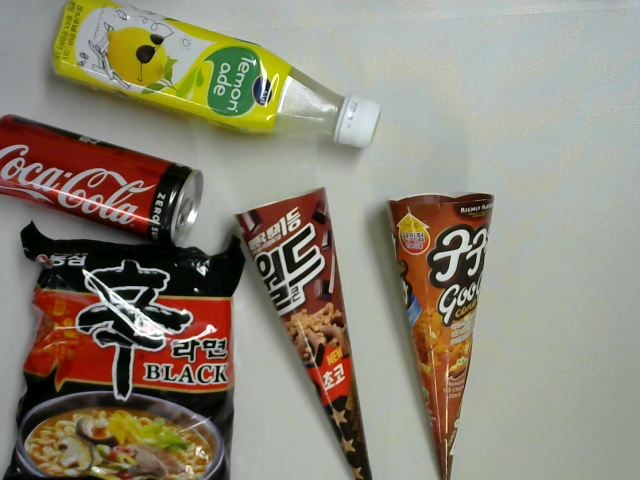Coca_Cola_Zero_Can_250ml: (1, 114, 204, 253)
GooGoo_Cone_CVS: (385, 192, 496, 480)
Sinramen_Black: (3, 218, 246, 480)
Sunkist_Lemonaid_Pet: (52, 1, 386, 155)
World_Cone_Choco: (233, 184, 374, 480)
